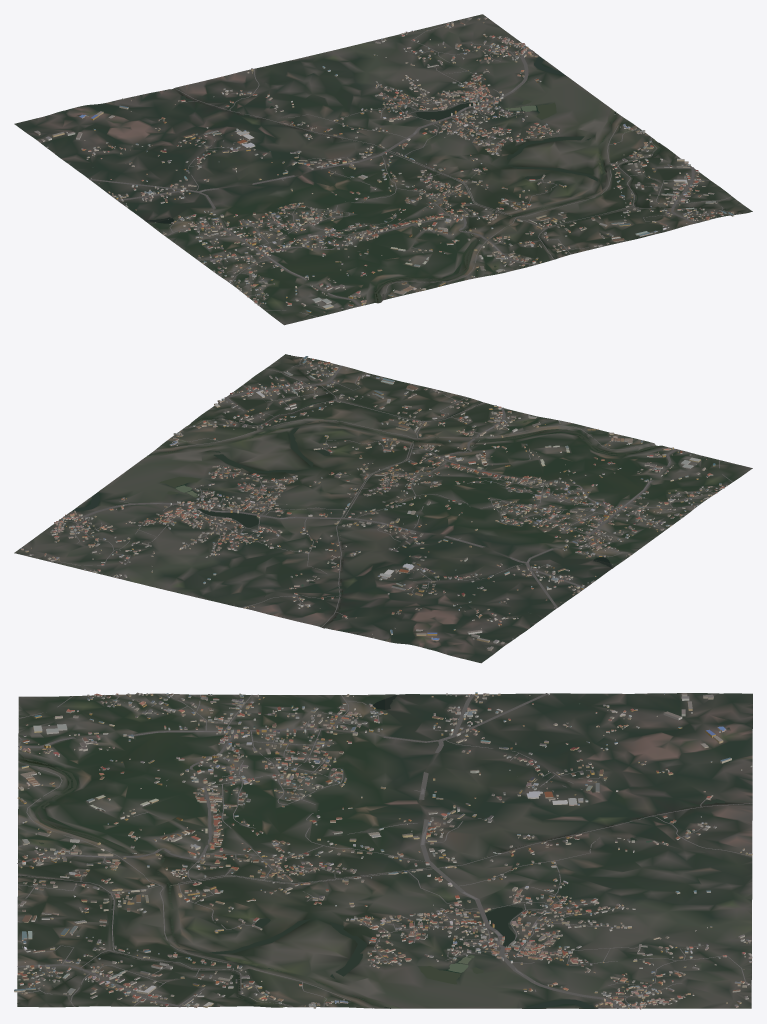
The picture shows the model from 3 angles, top to bottom: view 1: azimuth 30°, elevation 25°; view 2: azimuth 150°, elevation 25°; view 3: azimuth 270°, elevation 25°; orthographic projection. The views are drawn at different scales.
Visible parts, largest first — view 1: ground, buildings, roads, water; view 2: ground, buildings, roads, water; view 3: ground, buildings, roads, water.
Boxes of the visible parts, x1=… form: ground: x1=14, y1=14, x2=752, y2=325; buildings: x1=34, y1=17, x2=734, y2=312; roads: x1=89, y1=24, x2=731, y2=316; water: x1=66, y1=57, x2=748, y2=302; ground: x1=14, y1=354, x2=752, y2=663; buildings: x1=21, y1=356, x2=727, y2=651; roads: x1=49, y1=360, x2=732, y2=627; water: x1=72, y1=355, x2=660, y2=649; ground: x1=17, y1=693, x2=752, y2=1008; buildings: x1=14, y1=692, x2=752, y2=1009; roads: x1=17, y1=693, x2=752, y2=1008; water: x1=17, y1=695, x2=752, y2=1008.
Size of the model in its own units: 2814 by 44.09 by 2821.
